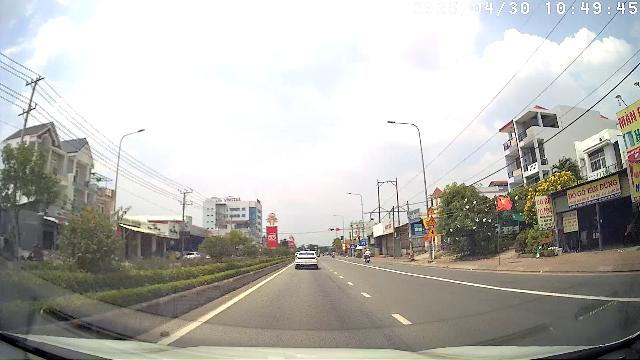423a-duong-nguoi-di-bo-sang-ngang-1: (351, 244, 355, 248)
